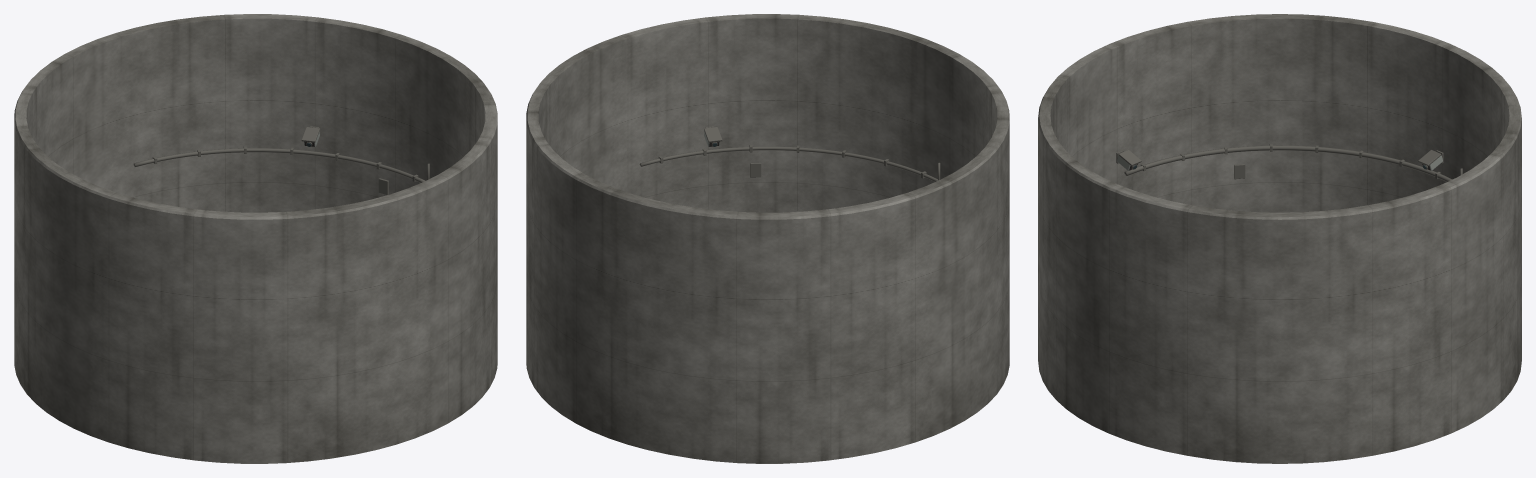
The model's file is old_eccepry_ring_9m.glb.
3 views of the same model, side by side, from view 1: azimuth 30°, elevation 25°; view 2: azimuth 150°, elevation 25°; view 3: azimuth 270°, elevation 25° (orthographic).
Parts seen in each view (by area): view 1: arena_wall, wall_run_01; view 2: arena_wall, wall_run_03; view 3: arena_wall, wall_run_02.
Boxes of the visible parts, x1,y1,x2,y2 form: arena_wall: [14, 14, 497, 463]; wall_run_01: [133, 148, 425, 182]; arena_wall: [526, 14, 1009, 463]; wall_run_03: [639, 146, 938, 181]; arena_wall: [1038, 14, 1521, 463]; wall_run_02: [1124, 145, 1452, 181].
Size of the model in its own units: 9.48 by 5.43 by 9.48.
8 materials, 2 textured.
